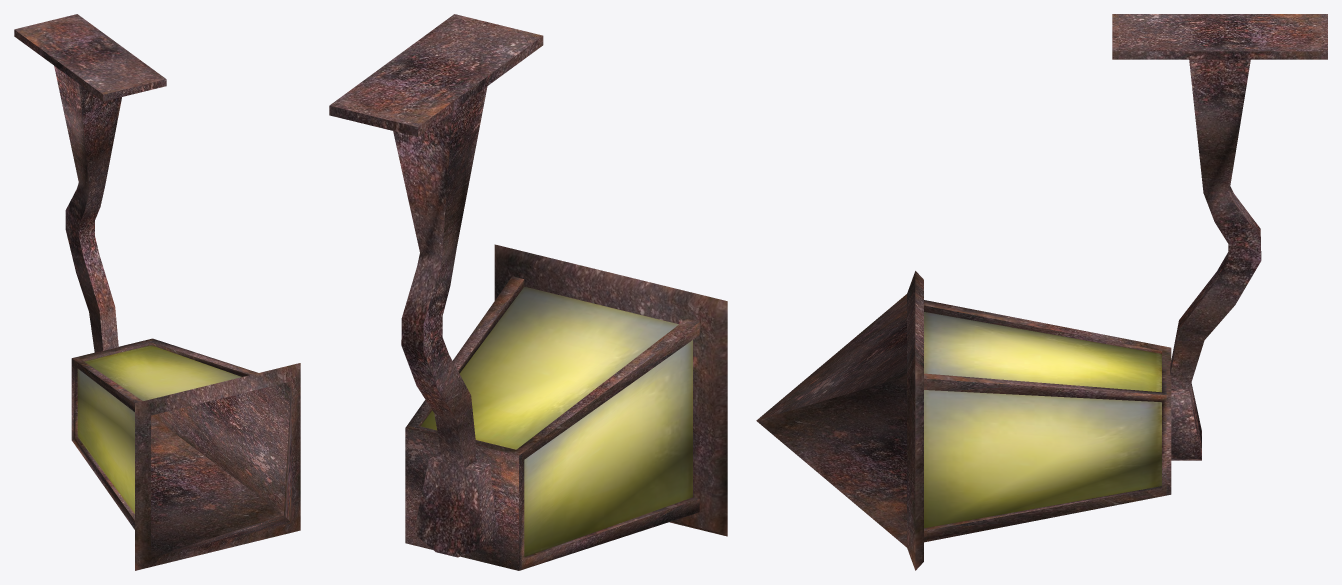
Rendered from lantern.obj.
The picture shows the model from 3 angles, left to right: view 1: azimuth 30°, elevation 25°; view 2: azimuth 150°, elevation 25°; view 3: azimuth 270°, elevation 25°; orthographic projection. The views are drawn at different scales.
Visible parts, largest first — view 1: object; view 2: object; view 3: object.
Part boxes in pixels (bbox=[...]): object: bbox=[14, 14, 300, 570]; object: bbox=[329, 14, 727, 570]; object: bbox=[756, 14, 1327, 570].
Bounding box in the file's own units: 11.42 × 26.59 × 28.2.
